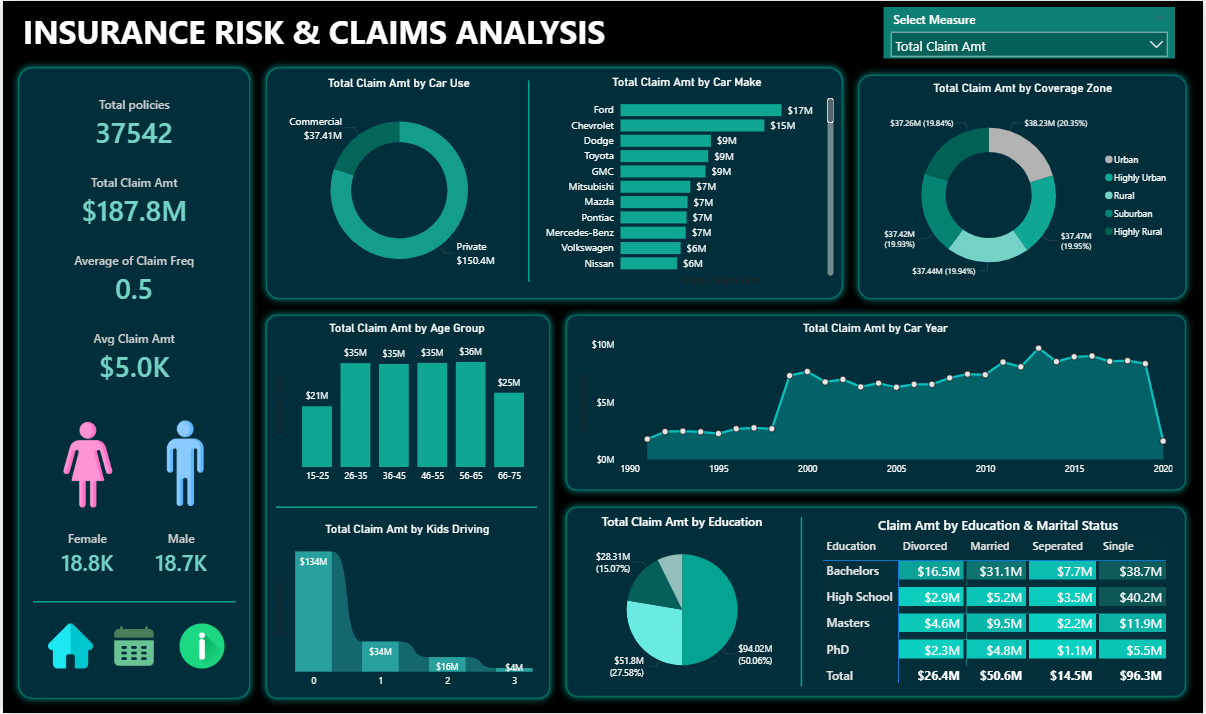

What the dashboard file says about the page in this screenshot:
{"tool":"powerbi","page":{"name":"Page 1","canvas":[1600,950],"ordinal":0},"visuals":[{"type":"textbox","box":[10,5.8,807.5,73.3],"z":0},{"type":"shape","box":[10,77.1,330,862.9],"z":1000},{"type":"cardVisual","fields":{"Data":["insurance_data_car.Total policies","insurance_data_car.Total Claim Amt","Avg(insurance_data_car.Claim Freq)","insurance_data_car.Avg Claim Amt"]},"box":[40,100,270,437.5],"z":2000},{"type":"cardVisual","fields":{"Data":["insurance_data_car.Female Count","insurance_data_car.Male Count"]},"box":[40,676,270,120],"z":3000},{"type":"image","box":[185,558.8,113.8,116.2],"z":4000},{"type":"image","box":[56,560,114,116],"z":5000},{"type":"slicer","fields":{"Values":["Select Measure.Select Measure"]},"box":[1173.3,8.3,388.3,68.3],"z":6000},{"type":"shape","box":[340,77.5,790,330],"z":7000},{"type":"donutChart","fields":{"Y":["insurance_data_car.Total Claim Amt"],"Category":["insurance_data_car.Car Use"]},"box":[358,100,340,286],"z":8000},{"type":"barChart","fields":{"Y":["insurance_data_car.Total Claim Amt"],"Category":["insurance_data_car.Car Make"]},"box":[712,98,400,286],"z":9000},{"type":"shape","box":[1130,88.3,458.3,320],"z":10000},{"type":"donutChart","fields":{"Y":["insurance_data_car.Total Claim Amt"],"Category":["insurance_data_car.Coverage Zone"]},"box":[1153.3,105,411.7,286.7],"z":11000},{"type":"shape","box":[340,407.5,400,532.5],"z":12000},{"type":"clusteredColumnChart","fields":{"Y":["insurance_data_car.Total Claim Amt"],"Category":["insurance_data_car.Age Group"]},"box":[355,425,365,225],"z":13000},{"type":"ribbonChart","fields":{"Y":["insurance_data_car.Total Claim Amt"],"Category":["insurance_data_car.Kids Driving"]},"box":[356,694,366,230],"z":14000},{"type":"shape","box":[740,407.5,847.5,255],"z":15000},{"type":"areaChart","fields":{"Y":["insurance_data_car.Total Claim Amt"],"Category":["insurance_data_car.Car Year"]},"box":[762.5,425,802.5,215],"z":16000},{"type":"shape","box":[740.4,664.1,847.6,274.3],"z":16001},{"type":"pieChart","fields":{"Category":["insurance_data_car.Education"],"Y":["insurance_data_car.Total Claim Amt"]},"box":[763,682.6,282.5,237.2],"z":16002},{"type":"pivotTable","title":"Claim Amt by Education  & Marital Status","fields":{"Rows":["insurance_data_car.Education"],"Columns":["insurance_data_car.Marital Status"],"Values":["insurance_data_car.Total Claim Amt"]},"box":[1088.6,684.3,477.1,235.7],"z":16003},{"type":"shape","box":[681,106.3,38,268.4],"z":16004},{"type":"shape","box":[1045.7,687.1,37.1,225.7],"z":16005},{"type":"shape","box":[364,650,348,50],"z":16006},{"type":"shape","box":[40,775,270,50],"z":16007},{"type":"image","box":[53.3,830,72.2,60],"z":16008},{"type":"image","box":[136.7,830,77.8,60],"z":16009},{"type":"image","box":[220,830,90,60],"z":16010}]}

Visuals, with their boxes in screenshot pixels (x1, y1, x2, y2), scaled from the page's 1600x950 canvas onto the 1206x714 screenshot:
textbox: <region>8, 4, 616, 59</region>
shape: <region>8, 58, 256, 706</region>
cardVisual - insurance_data_car.Total policies x insurance_data_car.Total Claim Amt: <region>30, 75, 234, 404</region>
cardVisual - insurance_data_car.Female Count x insurance_data_car.Male Count: <region>30, 508, 234, 598</region>
image: <region>139, 420, 225, 507</region>
image: <region>42, 421, 128, 508</region>
slicer - Select Measure.Select Measure: <region>884, 6, 1177, 58</region>
shape: <region>256, 58, 852, 306</region>
donutChart - insurance_data_car.Total Claim Amt x insurance_data_car.Car Use: <region>270, 75, 526, 290</region>
barChart - insurance_data_car.Total Claim Amt x insurance_data_car.Car Make: <region>537, 74, 838, 289</region>
shape: <region>852, 66, 1197, 307</region>
donutChart - insurance_data_car.Total Claim Amt x insurance_data_car.Coverage Zone: <region>869, 79, 1180, 294</region>
shape: <region>256, 306, 558, 706</region>
clusteredColumnChart - insurance_data_car.Total Claim Amt x insurance_data_car.Age Group: <region>268, 319, 543, 489</region>
ribbonChart - insurance_data_car.Total Claim Amt x insurance_data_car.Kids Driving: <region>268, 522, 544, 694</region>
shape: <region>558, 306, 1197, 498</region>
areaChart - insurance_data_car.Total Claim Amt x insurance_data_car.Car Year: <region>575, 319, 1180, 481</region>
shape: <region>558, 499, 1197, 705</region>
pieChart - insurance_data_car.Education x insurance_data_car.Total Claim Amt: <region>575, 513, 788, 691</region>
"Claim Amt by Education  & Marital Status" pivotTable: <region>821, 514, 1180, 691</region>
shape: <region>513, 80, 542, 282</region>
shape: <region>788, 516, 816, 686</region>
shape: <region>274, 489, 537, 526</region>
shape: <region>30, 582, 234, 620</region>
image: <region>40, 624, 95, 669</region>
image: <region>103, 624, 162, 669</region>
image: <region>166, 624, 234, 669</region>
